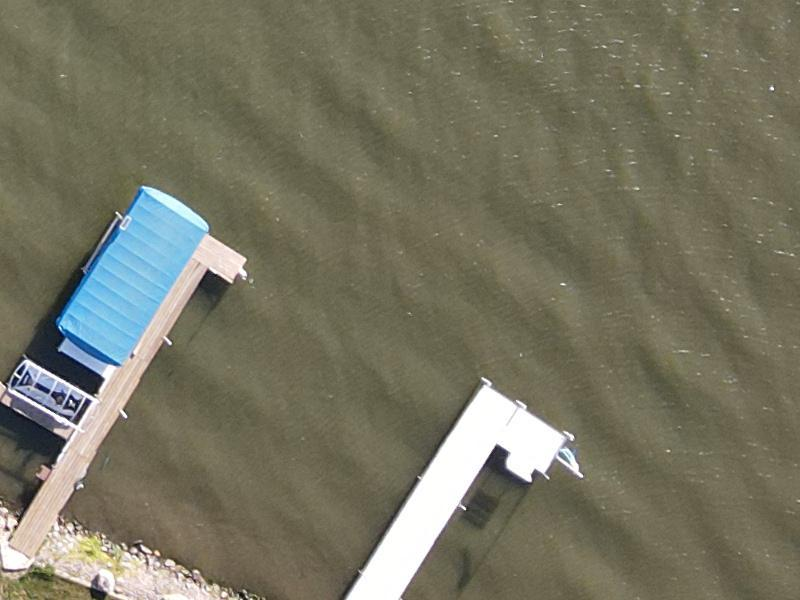boat: (10, 236, 250, 571), (301, 382, 574, 599)
lift: (40, 184, 209, 378)
